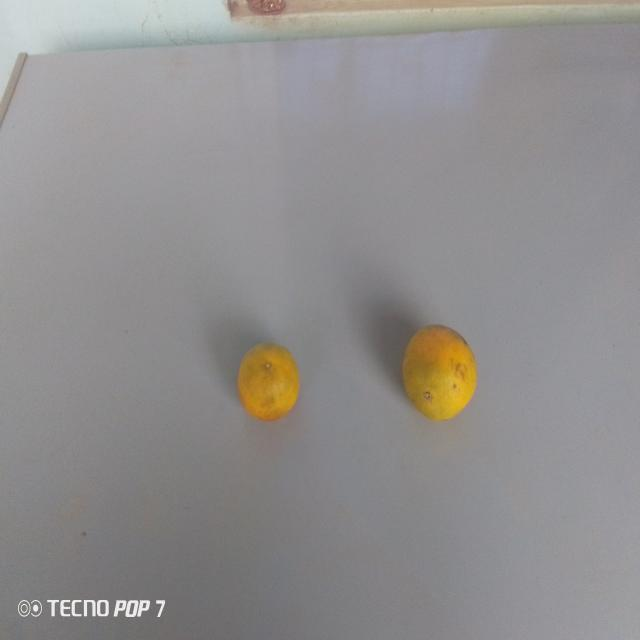Ripe orange: (382, 320, 487, 428), (227, 336, 307, 425)
